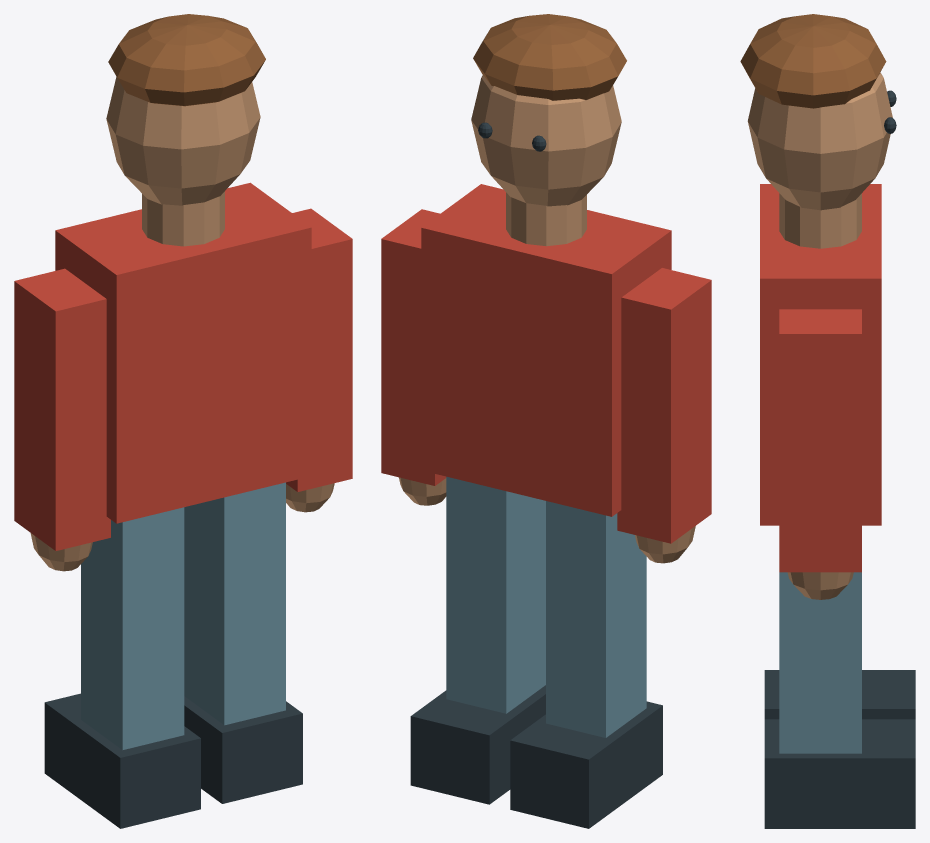
Rendered from resident_child.glb.
3 renders of one model, left to right at view 1: azimuth 30°, elevation 25°; view 2: azimuth 150°, elevation 25°; view 3: azimuth 270°, elevation 25°, orthographic. The views are drawn at different scales.
Parts seen in each view (by area): view 1: resident_child; view 2: resident_child; view 3: resident_child.
Boxes of the visible parts, <box> form: resident_child: <box>14,14,352,828</box>; resident_child: <box>381,14,711,828</box>; resident_child: <box>740,14,915,828</box>.
Bounding box in the file's own units: 0.504 × 1.24 × 0.2592.
